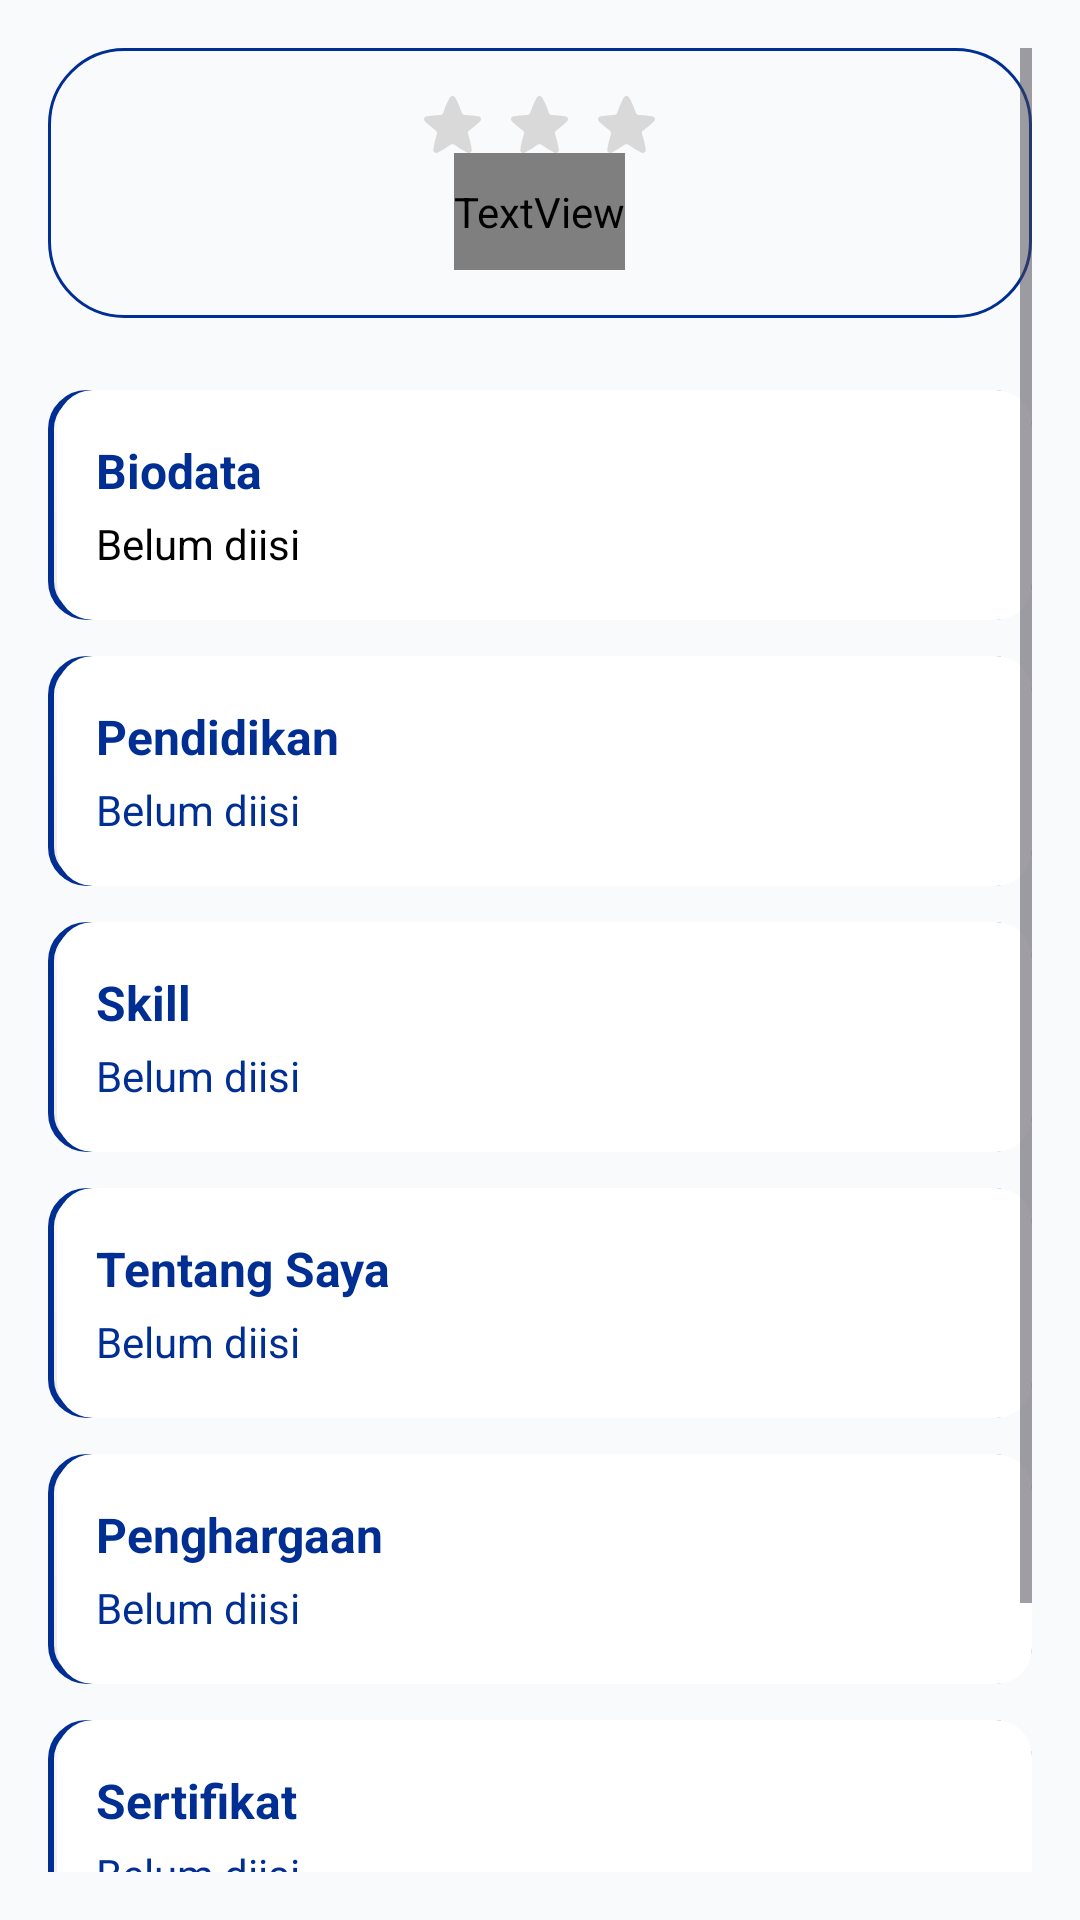

Icon click points for this 1080px×1920px phone screenshot, format [x,y]:
bintang: [452,124], [539,124], [626,124]
